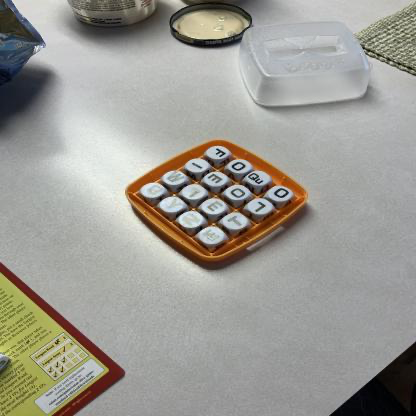d: (142, 184, 166, 199)
e: (200, 228, 225, 246), (202, 199, 226, 216), (206, 173, 229, 188)
f: (208, 147, 229, 160)
i: (187, 160, 209, 174)
l: (249, 199, 273, 216), (183, 185, 207, 201)
n: (180, 213, 204, 229)
o: (227, 186, 250, 202), (270, 187, 293, 202), (229, 160, 252, 175)
qu: (248, 172, 271, 187)
t: (224, 214, 248, 231)
w: (164, 172, 187, 186)
y: (161, 197, 185, 214)
